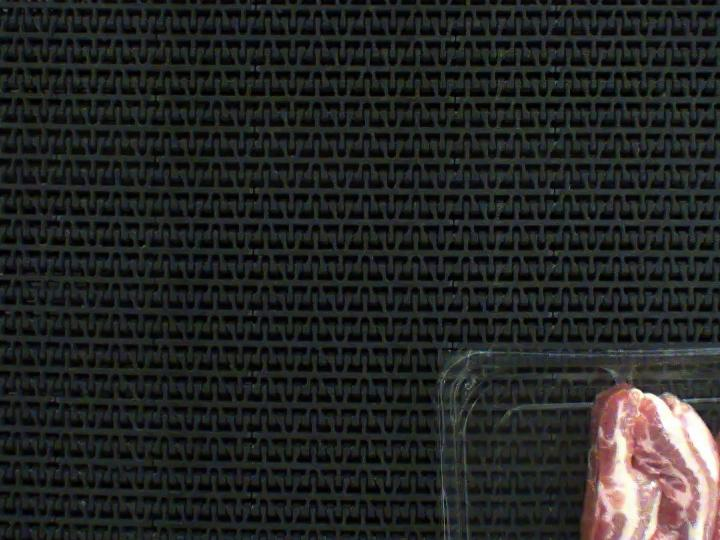packaging-error: (538, 325, 690, 437)
